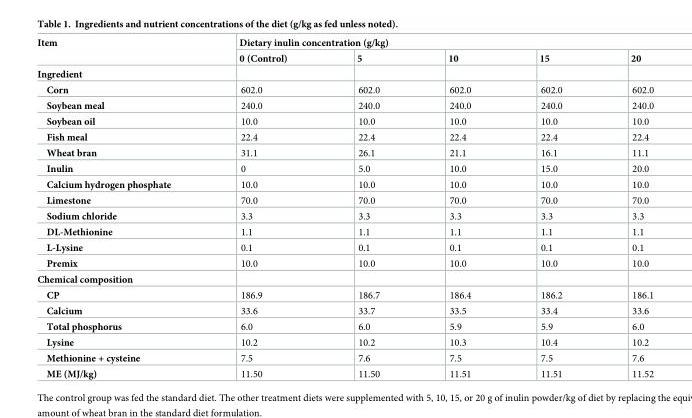table: (36, 37, 653, 378)
table column: (36, 37, 204, 378), (204, 37, 321, 378), (321, 37, 413, 378), (413, 37, 504, 378), (504, 37, 595, 378), (595, 37, 653, 378)
table column header: (36, 37, 653, 65)
table projected row header: (36, 65, 653, 81), (36, 271, 653, 286)
table row: (36, 65, 653, 81), (36, 81, 653, 97), (36, 97, 653, 113), (36, 113, 653, 129), (36, 144, 653, 160), (36, 160, 653, 176), (36, 176, 653, 192), (36, 192, 653, 208), (36, 223, 653, 239), (36, 239, 653, 255), (36, 255, 653, 271), (36, 286, 653, 302), (36, 302, 653, 318), (36, 318, 653, 334), (36, 334, 653, 350), (36, 50, 653, 65), (36, 129, 653, 144), (36, 208, 653, 223), (36, 271, 653, 286), (36, 350, 653, 365), (36, 37, 653, 50), (36, 365, 653, 378)
table spanning cell: (204, 37, 653, 50), (36, 37, 204, 65)
